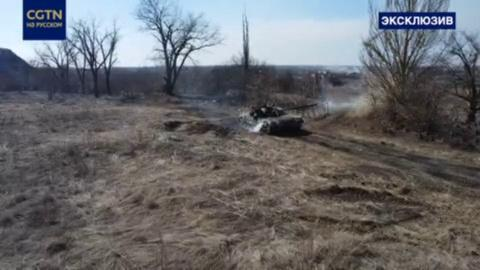tank: (237, 102, 319, 135)
